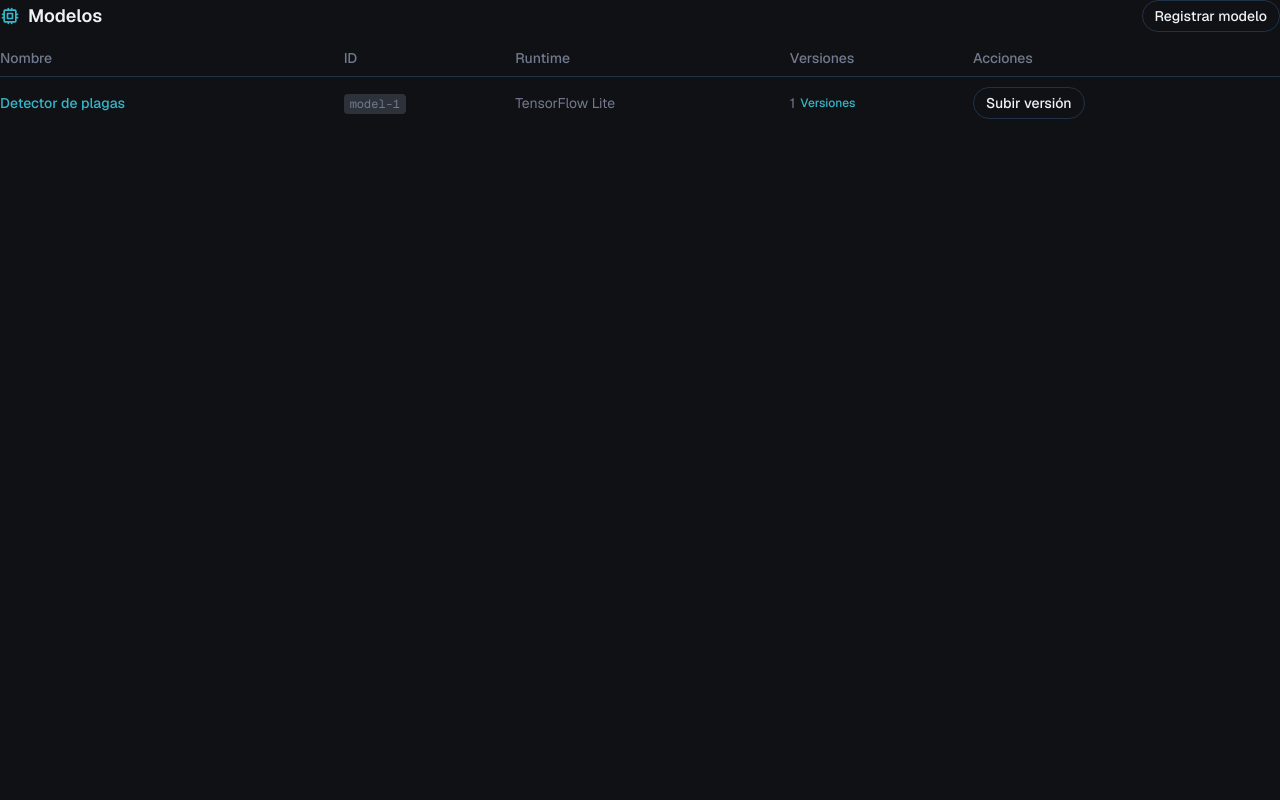
Scenario: ApplicationDetailPanel › US-015: Listar las versiones de un modelo › offers administrators the Subir versión action inside the versions dialog
Click the button with test id "versions-trigger-model-1".
click(828, 103)  # box [799,94,856,112]
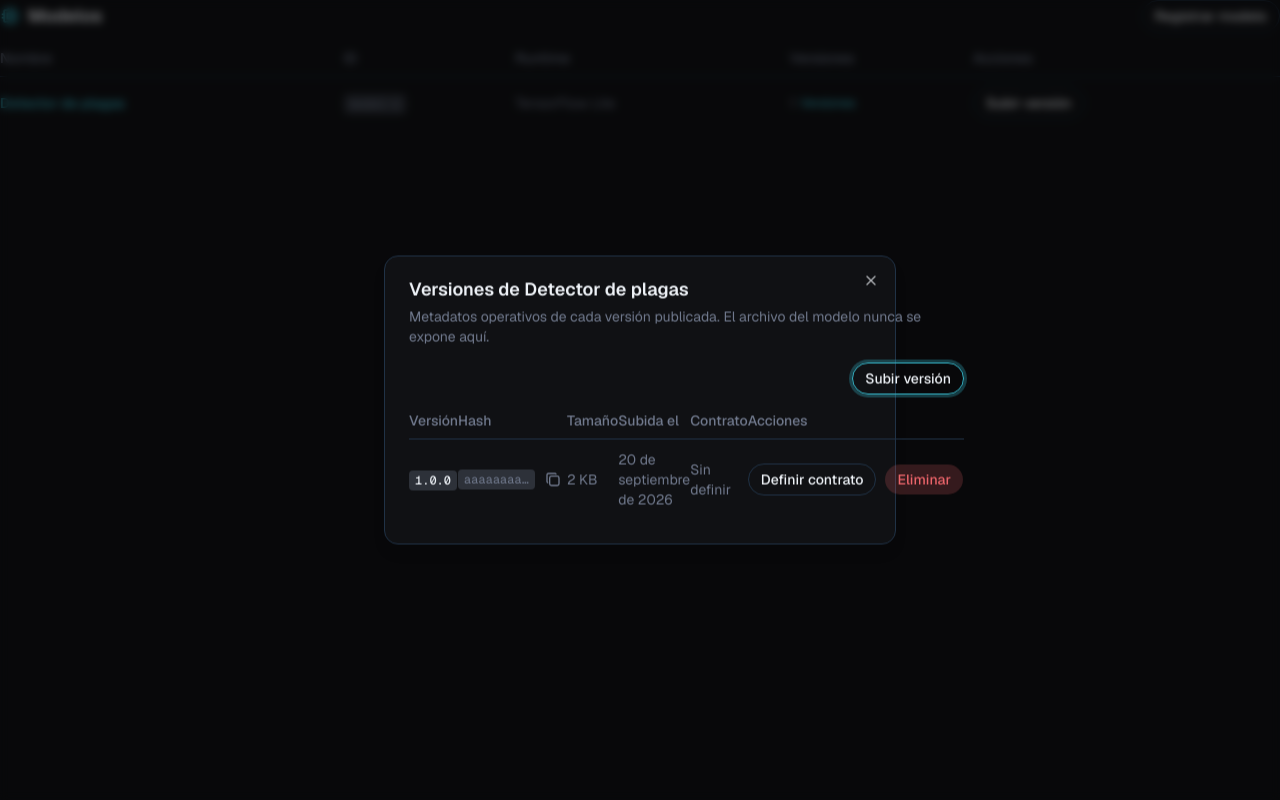
expect the button with test id "upload-version-from-versions" is shown: met, box [852,362,964,394]
